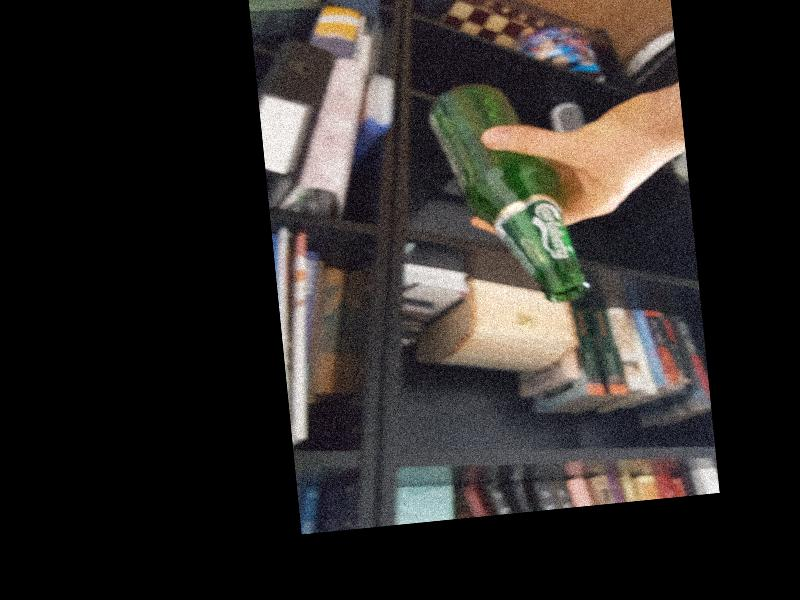Beer: (422, 74, 588, 313)
